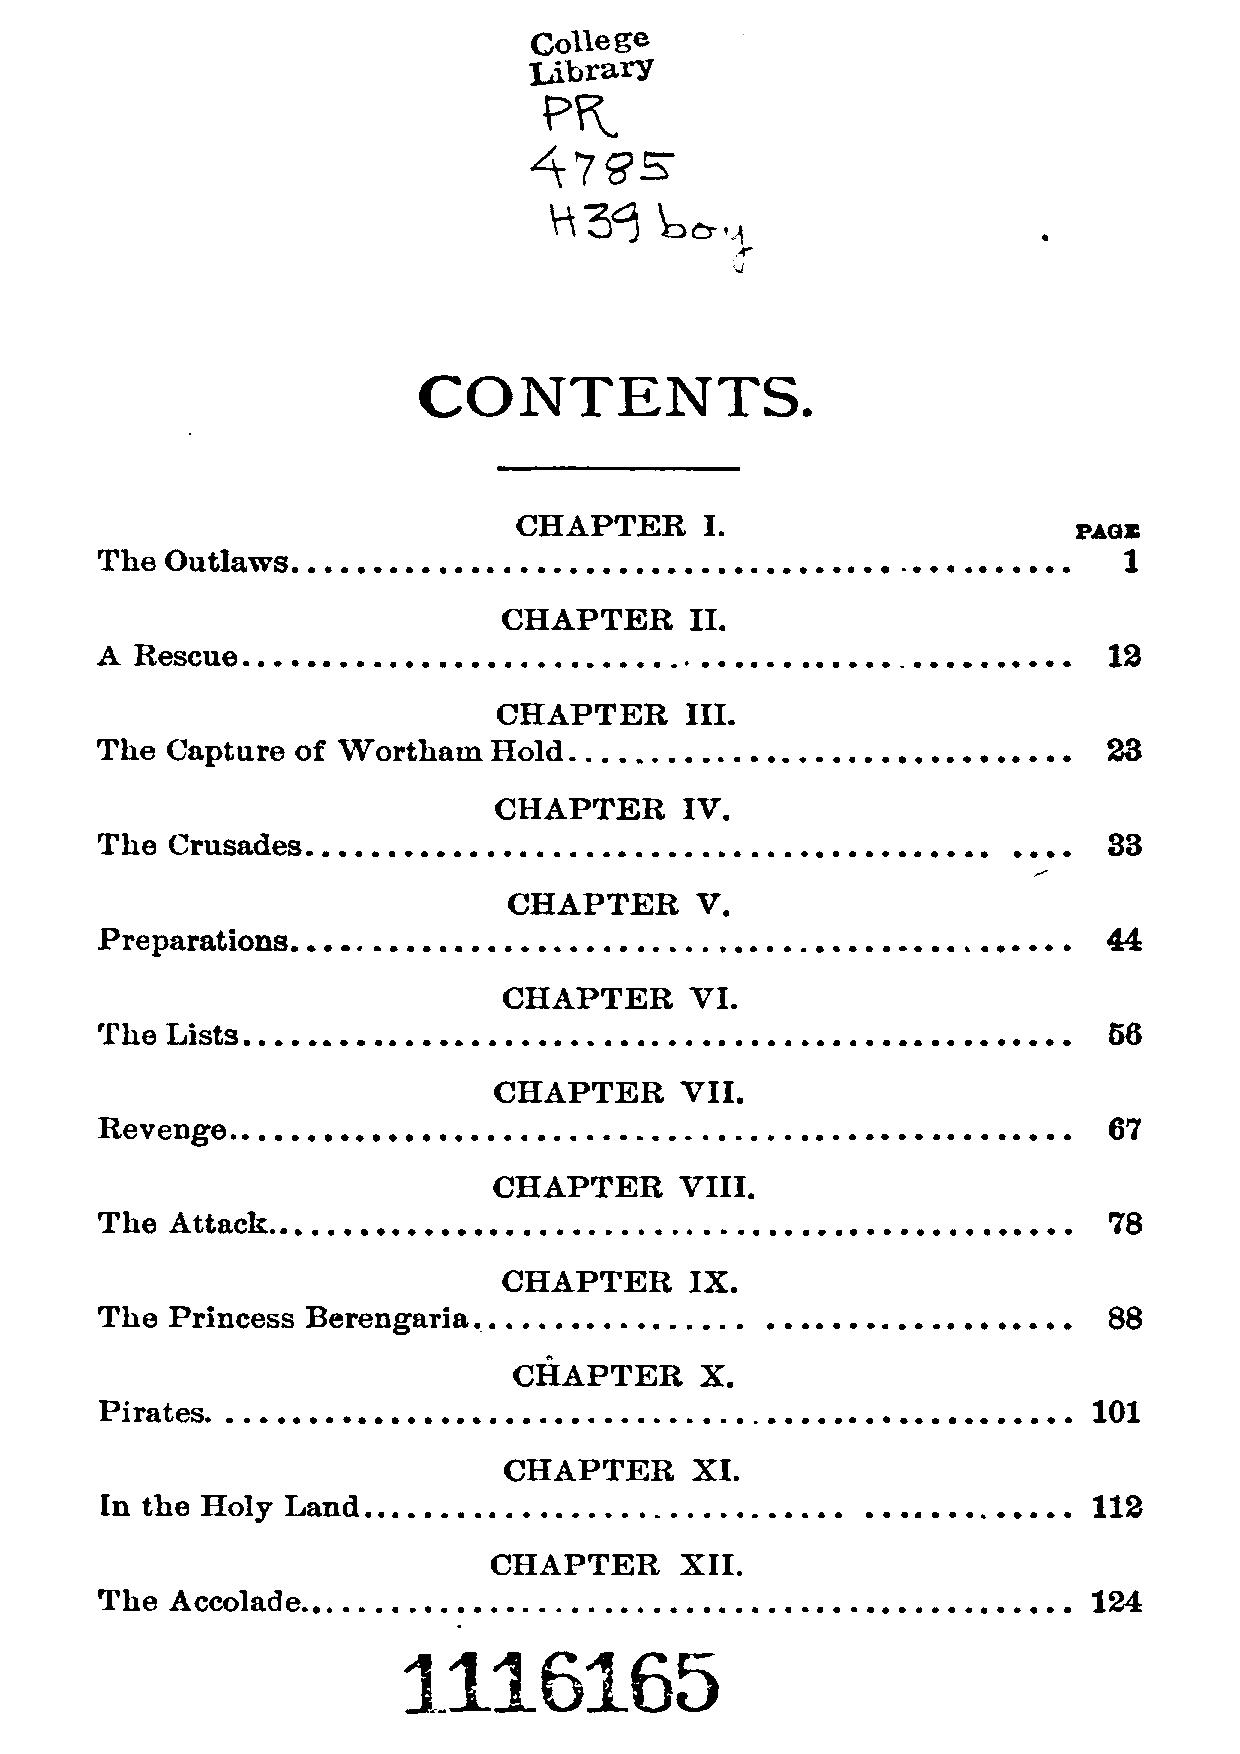TOC_chapter: (94, 730, 565, 761), (93, 1300, 472, 1333), (99, 1490, 362, 1525), (487, 1075, 750, 1110), (488, 1172, 758, 1205), (484, 1547, 747, 1580), (488, 697, 739, 729), (505, 886, 734, 921), (499, 1452, 741, 1484), (493, 1266, 742, 1296), (498, 982, 741, 1013), (509, 1359, 739, 1392), (497, 603, 727, 633), (490, 794, 731, 823), (95, 922, 290, 957), (95, 831, 305, 862), (94, 1585, 301, 1614), (511, 511, 727, 539), (94, 545, 290, 576), (97, 1206, 270, 1239), (97, 1113, 232, 1147), (94, 641, 240, 671), (94, 1019, 239, 1048), (97, 1396, 209, 1431)
TOC_pagenumber: (1092, 1396, 1143, 1429), (1096, 731, 1146, 765), (1088, 1585, 1142, 1614), (1104, 921, 1145, 958), (1090, 1494, 1145, 1520), (1104, 825, 1145, 862), (1102, 1300, 1145, 1333), (1107, 635, 1143, 670), (1107, 1204, 1142, 1240), (1106, 1017, 1143, 1048), (1107, 1113, 1142, 1143), (1121, 545, 1141, 570)
chapter: (413, 366, 815, 421)
